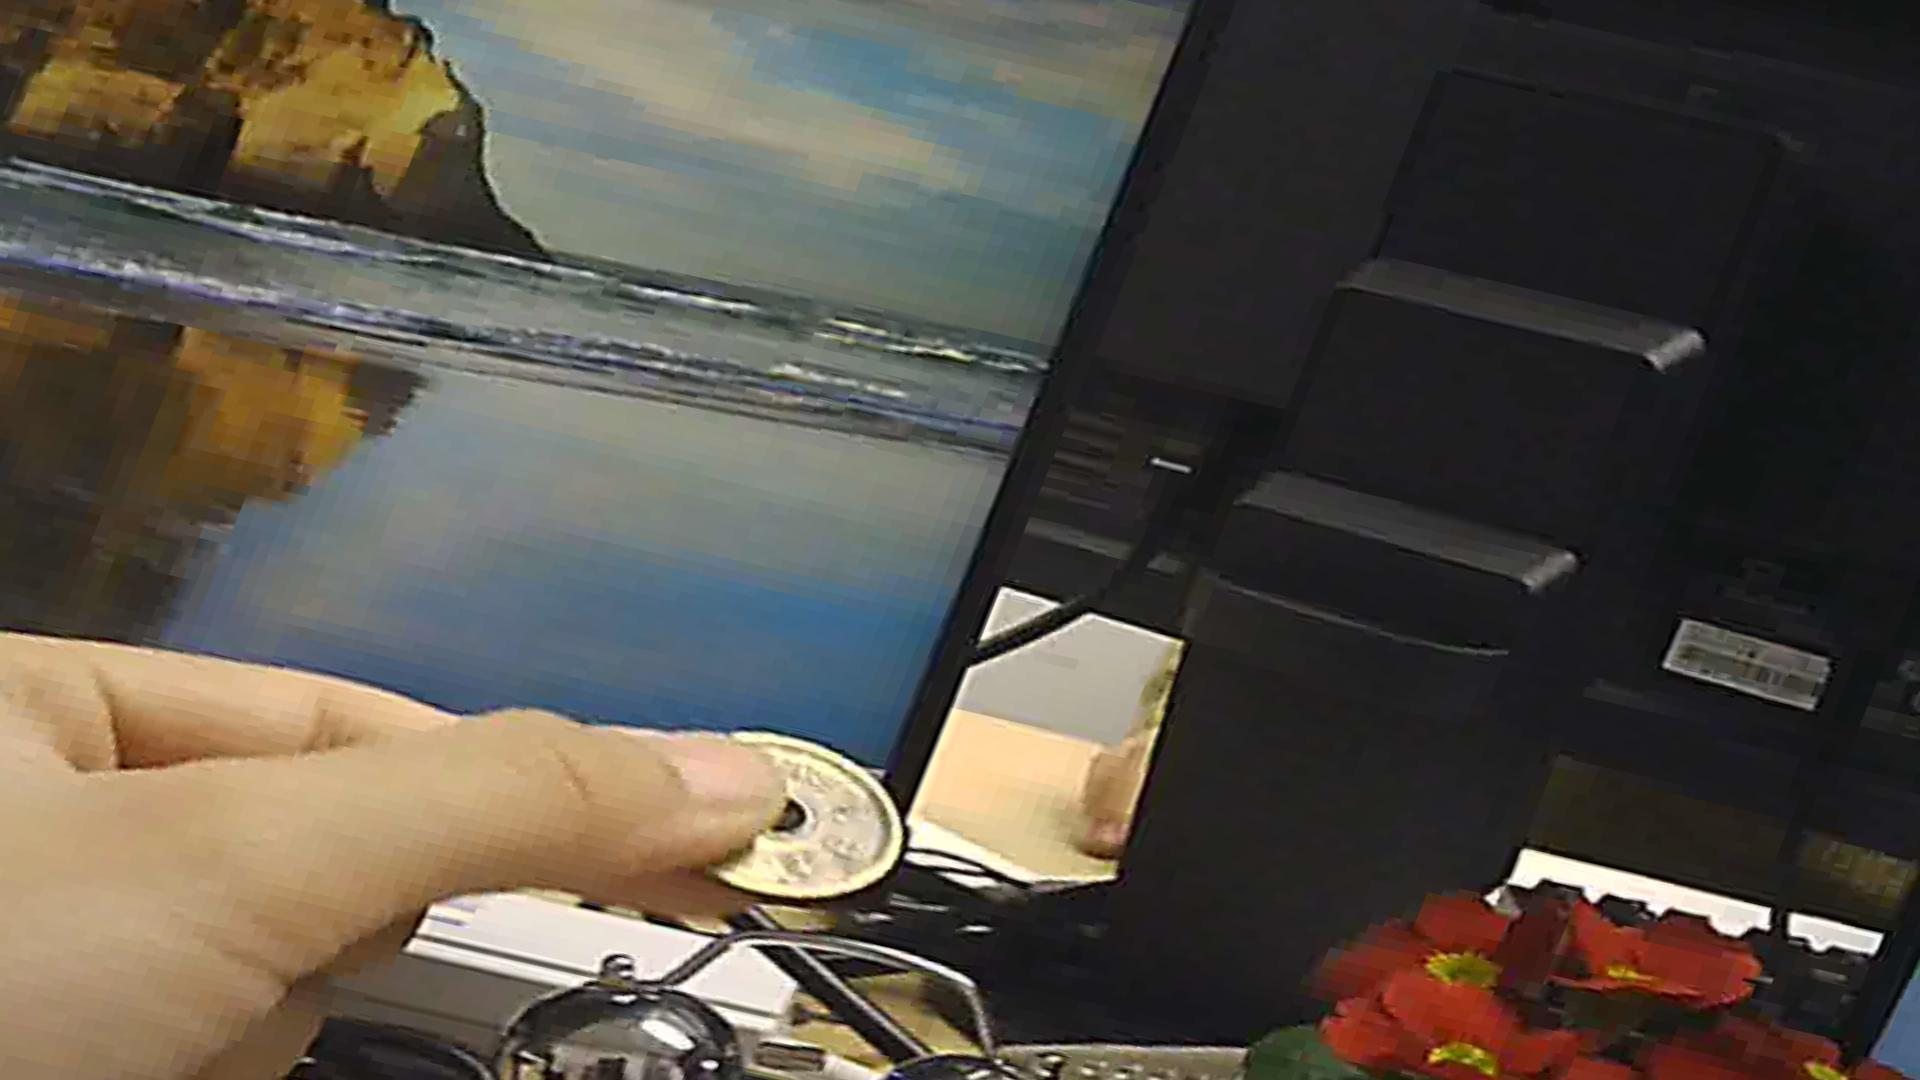5 Yen: (671, 717, 905, 913)
